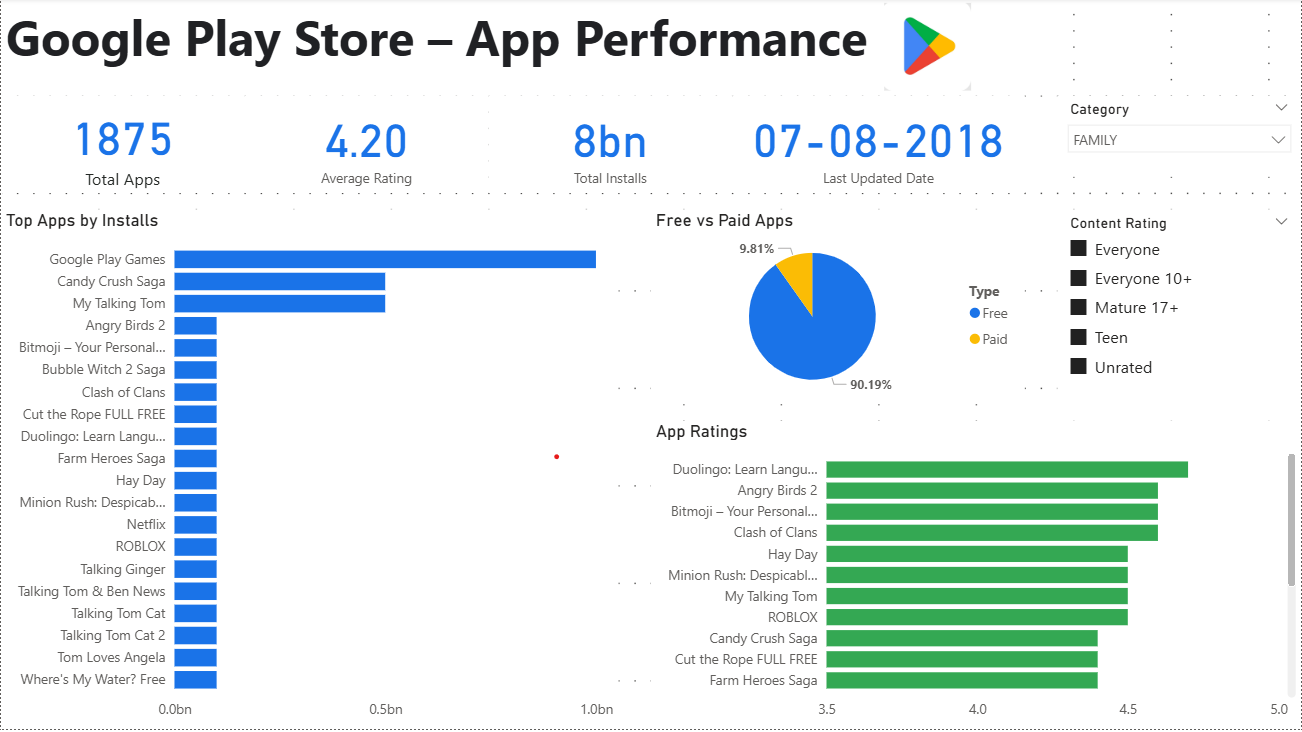

This screenshot's page, from the dashboard's own definition file:
{"tool":"powerbi","page":{"name":"App Performance","canvas":[1280,720],"ordinal":1},"visuals":[{"type":"textbox","box":[0,0,1040,96],"z":0},{"type":"card","fields":{"Values":["Cleaned_Play_Store_Data.Total Apps"]},"box":[0,96,240,96],"z":1000},{"type":"card","fields":{"Values":["Cleaned_Play_Store_Data.Average Rating"]},"box":[240,96,240,96],"z":2000},{"type":"card","fields":{"Values":["Cleaned_Play_Store_Data.Total Installs"]},"box":[480,96,240,96],"z":3000},{"type":"card","fields":{"Values":["Cleaned_Play_Store_Data.Last Updated Date"]},"box":[720,96,288,96],"z":4000},{"type":"clusteredBarChart","title":"Top Apps by Installs","fields":{"Category":["Cleaned_Play_Store_Data.App"],"Y":["Sum(Cleaned_Play_Store_Data.Installs)"]},"box":[0,208,608,512],"z":5000},{"type":"clusteredBarChart","title":"App Ratings","fields":{"Category":["Cleaned_Play_Store_Data.App"],"Y":["Sum(Cleaned_Play_Store_Data.Rating)"]},"box":[640,432,640,288],"z":6000},{"type":"pieChart","title":"Free vs Paid Apps","fields":{"Category":["Cleaned_Play_Store_Data.Type"],"Y":["Cleaned_Play_Store_Data.Total Apps"]},"box":[640,208,368,208],"z":7000},{"type":"slicer","fields":{"Values":["Cleaned_Play_Store_Data.Content Rating"]},"box":[1040,208,240,224],"z":8000},{"type":"slicer","fields":{"Values":["Cleaned_Play_Store_Data.Category"]},"box":[1040,96,240,80],"z":9000},{"type":"image","box":[864,0,96,96],"z":9001}]}

Visuals, with their boxes in screenshot pixels (x1, y1, x2, y2), scaled from the page's 1280x720 canvas onto the 1302x732 screenshot:
textbox: [0, 0, 1058, 98]
card - Cleaned_Play_Store_Data.Total Apps: [0, 98, 244, 195]
card - Cleaned_Play_Store_Data.Average Rating: [244, 98, 488, 195]
card - Cleaned_Play_Store_Data.Total Installs: [488, 98, 732, 195]
card - Cleaned_Play_Store_Data.Last Updated Date: [732, 98, 1025, 195]
"Top Apps by Installs" clusteredBarChart: [0, 211, 618, 731]
"App Ratings" clusteredBarChart: [651, 439, 1301, 731]
"Free vs Paid Apps" pieChart: [651, 211, 1025, 423]
slicer - Cleaned_Play_Store_Data.Content Rating: [1058, 211, 1301, 439]
slicer - Cleaned_Play_Store_Data.Category: [1058, 98, 1301, 179]
image: [879, 0, 976, 98]
